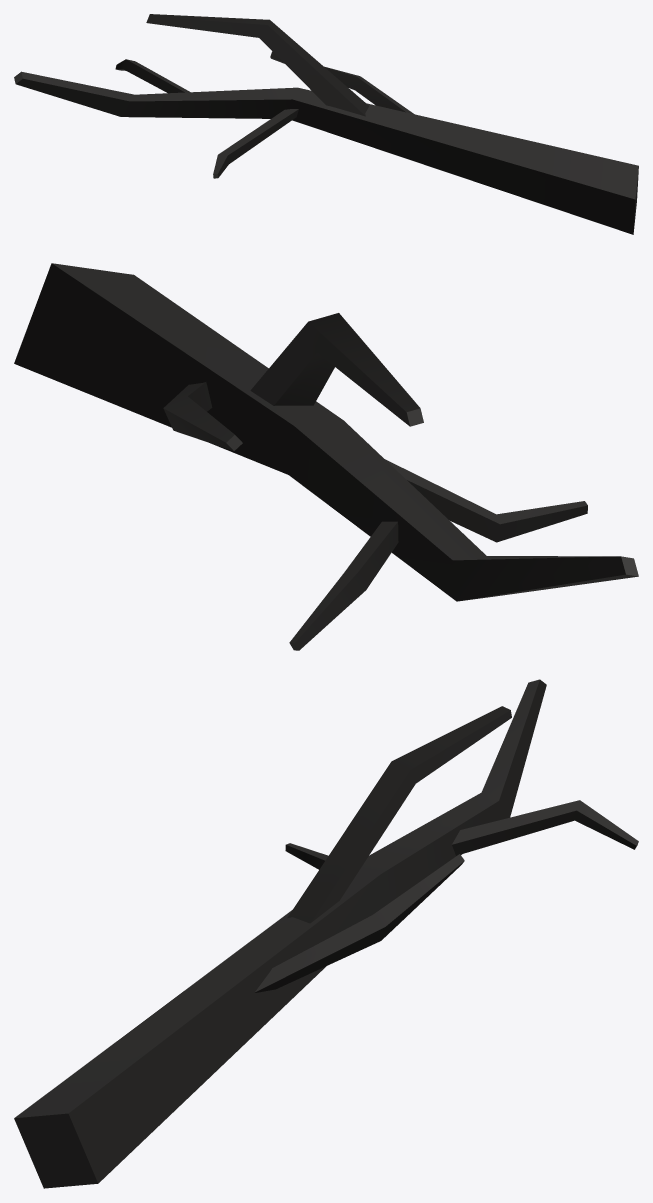
The model's file is SmallLess_SF_Env_Tree_Burnt_03.fbx.
The picture shows the model from 3 angles, top to bottom: view 1: azimuth 30°, elevation 25°; view 2: azimuth 150°, elevation 25°; view 3: azimuth 270°, elevation 25°; orthographic projection. The views are drawn at different scales.
Visible parts, largest first — view 1: SF_Env_Tree_Burnt_03; view 2: SF_Env_Tree_Burnt_03; view 3: SF_Env_Tree_Burnt_03.
Boxes of the visible parts, x1,y1,x2,y2 form: SF_Env_Tree_Burnt_03: (14, 14, 638, 234); SF_Env_Tree_Burnt_03: (14, 263, 638, 650); SF_Env_Tree_Burnt_03: (14, 679, 638, 1188).
Bounding box in the file's own units: 554 × 204 × 449.
